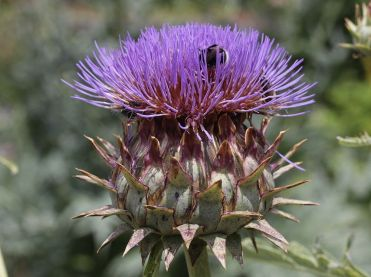thistle: (78, 21, 317, 266)
